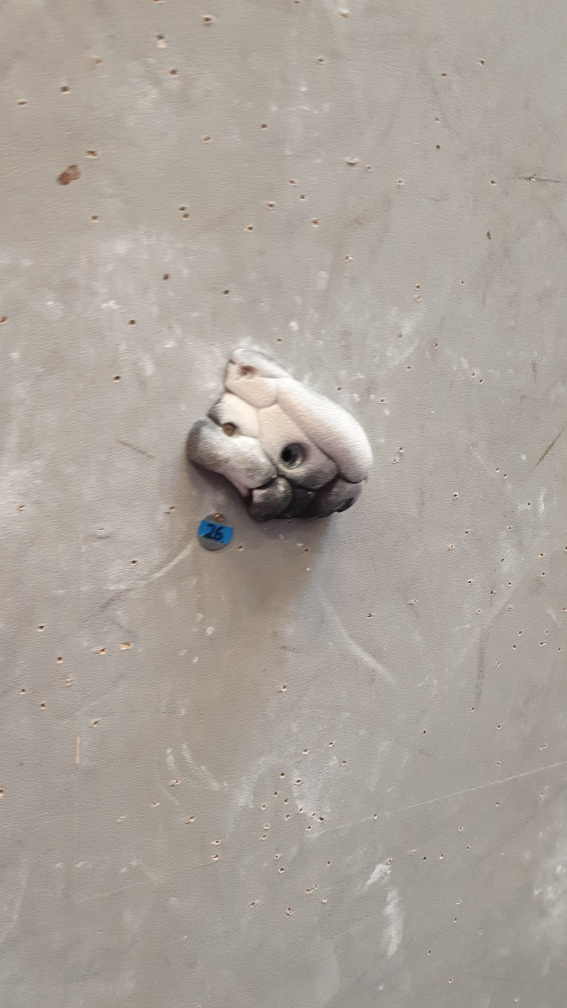Hand Start: (194, 510, 236, 552)
Jug: (184, 342, 374, 521)
